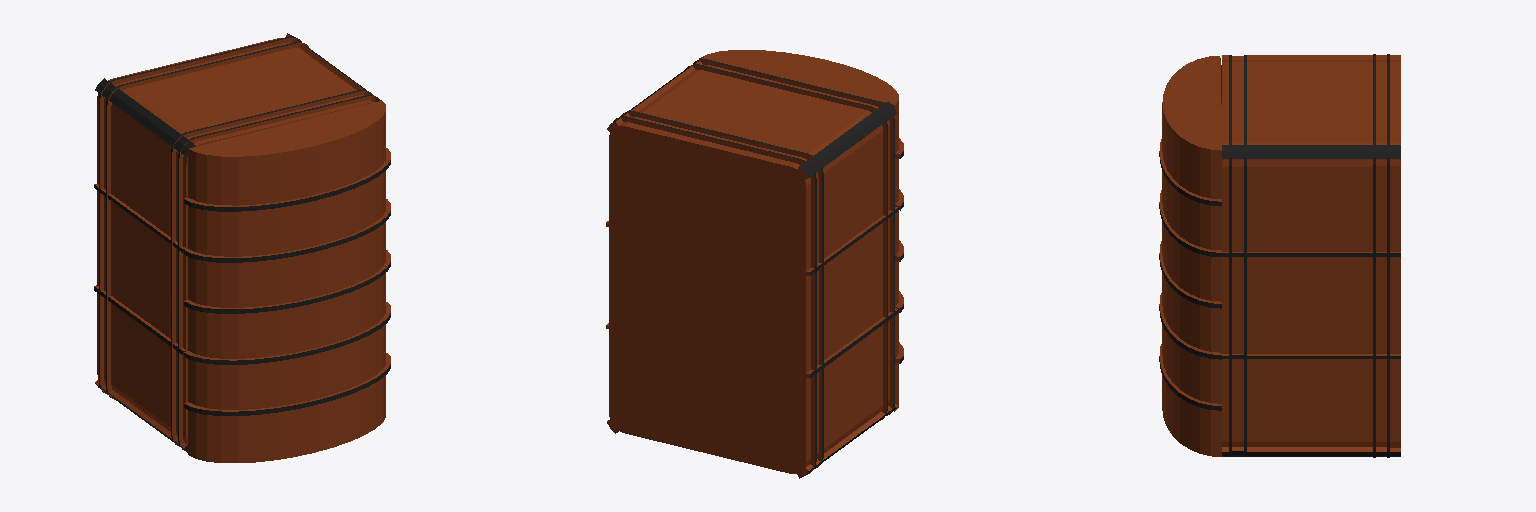
The model's file is chestStill.obj.
3 views of the same model, side by side, from view 1: azimuth 30°, elevation 25°; view 2: azimuth 150°, elevation 25°; view 3: azimuth 270°, elevation 25° (orthographic).
Parts seen in each view (by area): view 1: Object.2, Object.1; view 2: Object.1, Object.2; view 3: Object.1, Object.2.
Part boxes in pixels (x1,y1,x2,y2): Object.2: (184, 100, 390, 462); Object.1: (94, 33, 380, 452); Object.1: (606, 57, 898, 478); Object.2: (699, 50, 903, 411); Object.1: (1221, 54, 1400, 457); Object.2: (1159, 56, 1222, 456).
Bounding box in the file's own units: 1247 × 1831 × 1271.